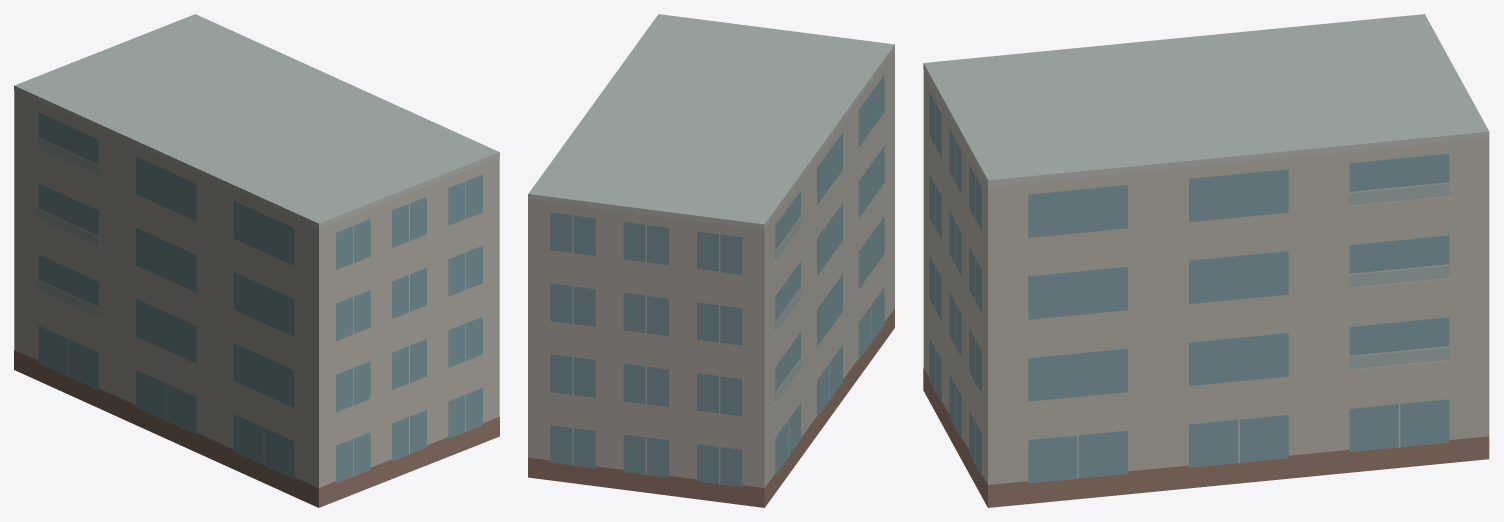
File: survey-upis-32913893.glb
3 renders of one model, left to right at view 1: azimuth 30°, elevation 25°; view 2: azimuth 150°, elevation 25°; view 3: azimuth 270°, elevation 25°, orthographic. The views are drawn at different scales.
Visible parts, largest first — view 1: survey-upis-32913893.tmp; view 2: survey-upis-32913893.tmp; view 3: survey-upis-32913893.tmp.
Part boxes in pixels (<box>): survey-upis-32913893.tmp: <box>14,14,499,507</box>; survey-upis-32913893.tmp: <box>528,14,894,507</box>; survey-upis-32913893.tmp: <box>923,14,1489,507</box>.
Bounding box in the file's own units: 13.96 × 12.8 × 20.06.
